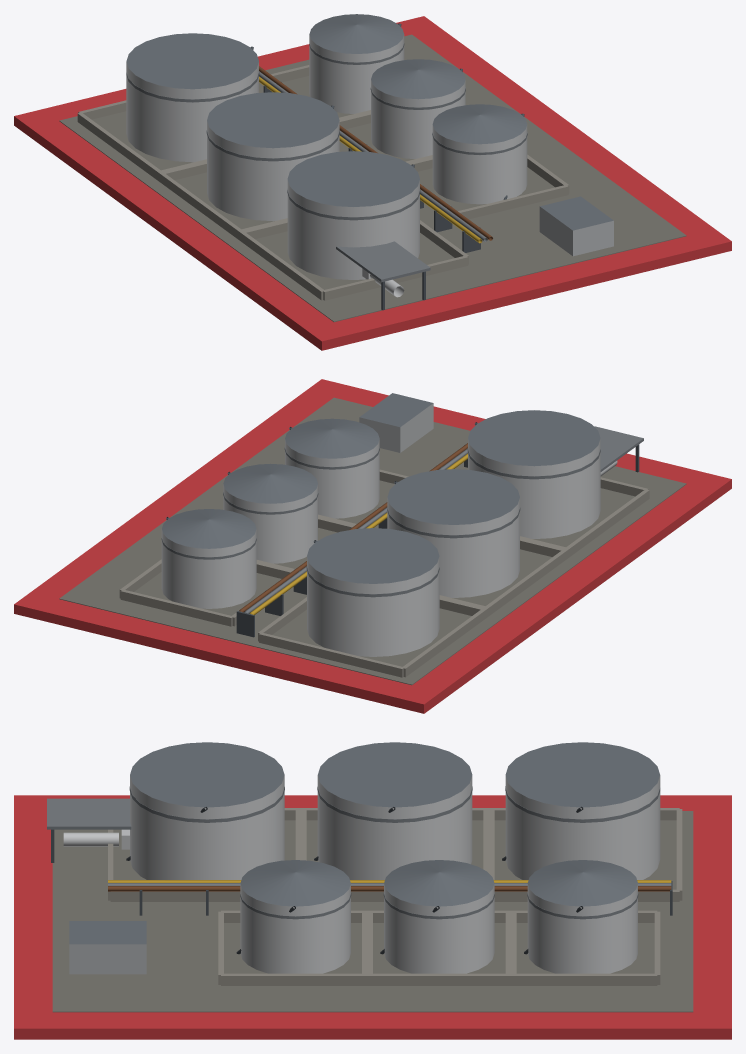
Rendered from fuel_depot_red.glb.
The picture shows the model from 3 angles, top to bottom: view 1: azimuth 30°, elevation 25°; view 2: azimuth 150°, elevation 25°; view 3: azimuth 270°, elevation 25°; orthographic projection. The views are drawn at different scales.
Visible parts, largest first — view 1: fuel_depot_red; view 2: fuel_depot_red; view 3: fuel_depot_red.
Part boxes in pixels (x1,y1,x2,y2): fuel_depot_red: (14,14,731,350); fuel_depot_red: (14,379,731,713); fuel_depot_red: (14,742,731,1039).
Bounding box in the file's own units: 100 × 19.58 × 130.
